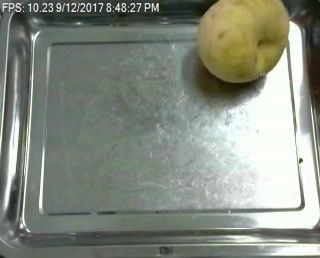Peach: (196, 0, 289, 83)
